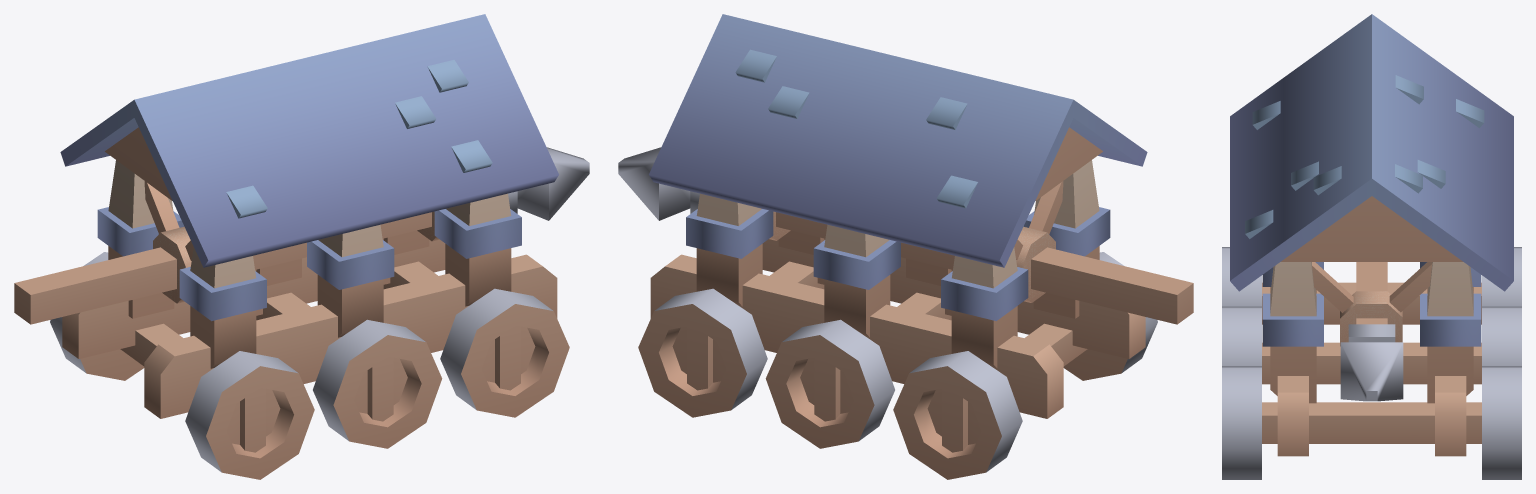
The model's file is siege-ram.glb.
The picture shows the model from 3 angles, left to right: view 1: azimuth 30°, elevation 25°; view 2: azimuth 150°, elevation 25°; view 3: azimuth 270°, elevation 25°; orthographic projection. The views are drawn at different scales.
Parts seen in each view (by area): view 1: siege-ram, wheel (×4), ram; view 2: siege-ram, wheel (×4), ram; view 3: siege-ram, wheel (×6), ram.
Part boxes in pixels (x1=…): siege-ram: x1=60, y1=14, x2=558, y2=418; wheel (×4): x1=50, y1=252, x2=569, y2=479; ram: x1=14, y1=147, x2=589, y2=324; siege-ram: x1=649, y1=14, x2=1147, y2=418; wheel (×4): x1=638, y1=252, x2=1157, y2=479; ram: x1=618, y1=147, x2=1193, y2=324; siege-ram: x1=1230, y1=14, x2=1513, y2=456; wheel (×6): x1=1222, y1=247, x2=1521, y2=479; ram: x1=1340, y1=262, x2=1403, y2=401.
Size of the model in its own units: 2.09 by 1.18 by 1.
